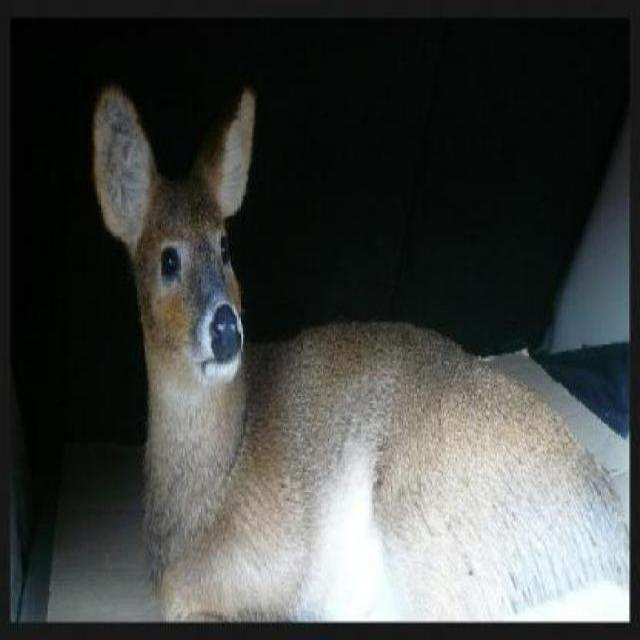deer: (79, 73, 632, 624)
